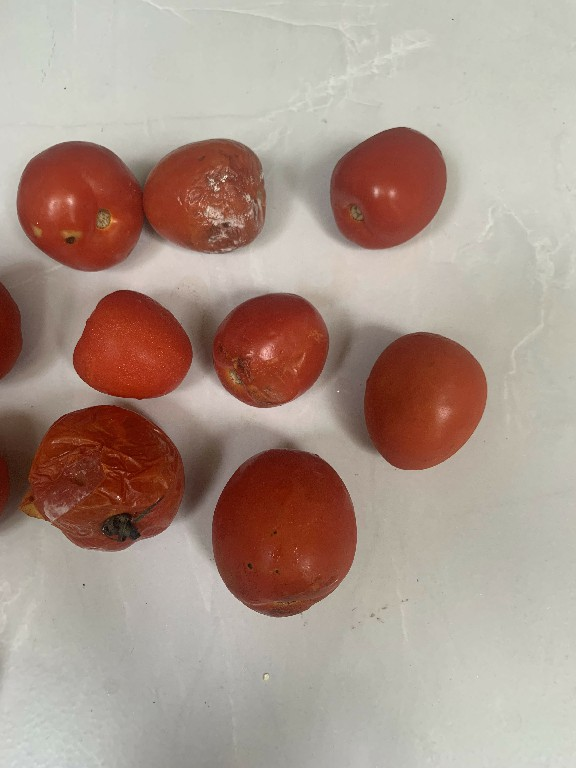NG: (23, 398, 189, 567), (13, 132, 145, 275), (143, 130, 269, 259), (211, 284, 332, 415)
OK: (205, 437, 369, 625), (356, 324, 488, 480), (324, 121, 454, 255), (69, 284, 205, 410)
